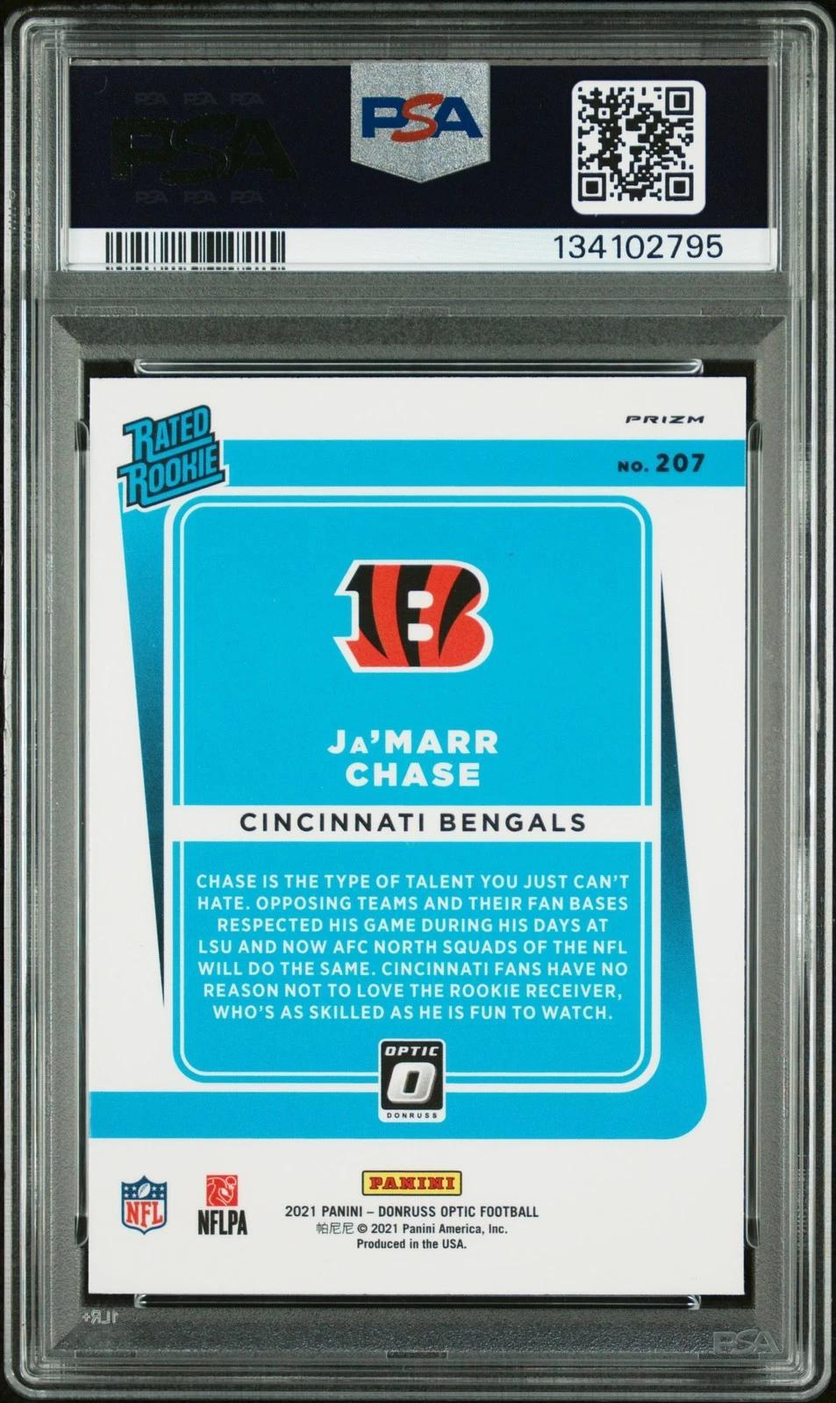card-2UtV: (87, 376, 747, 1295)
